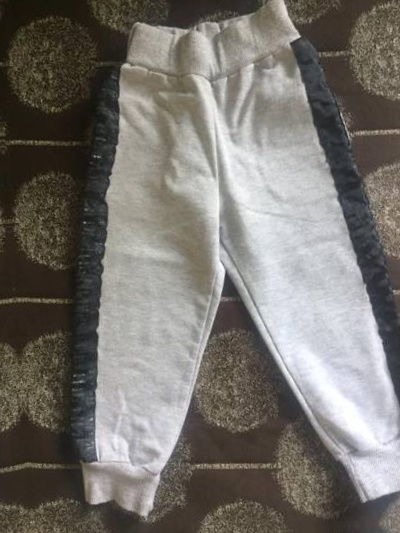Pants: (39, 0, 400, 511)
